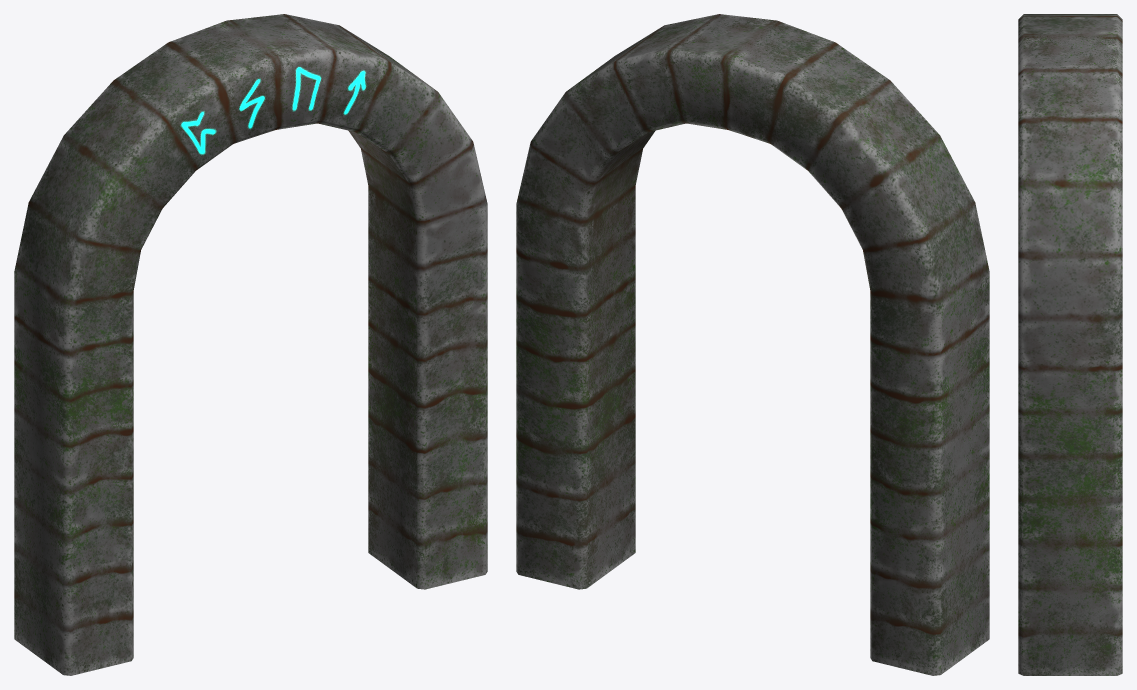
Rendered from arch.glb.
3 renders of one model, left to right at view 1: azimuth 30°, elevation 25°; view 2: azimuth 150°, elevation 25°; view 3: azimuth 270°, elevation 25°, orthographic. The views are drawn at different scales.
Parts seen in each view (by area): view 1: arch_low; view 2: arch_low; view 3: arch_low.
Boxes of the visible parts, box(x1,y1,x2,y2) form: arch_low: box(14, 14, 487, 675); arch_low: box(516, 14, 989, 675); arch_low: box(1018, 14, 1122, 675).
Bounding box in the file's own units: 2.45 × 3.13 × 0.5473.
1 material, 1 textured.
